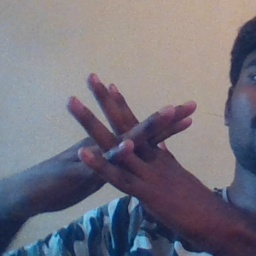W: (56, 60, 204, 223)
